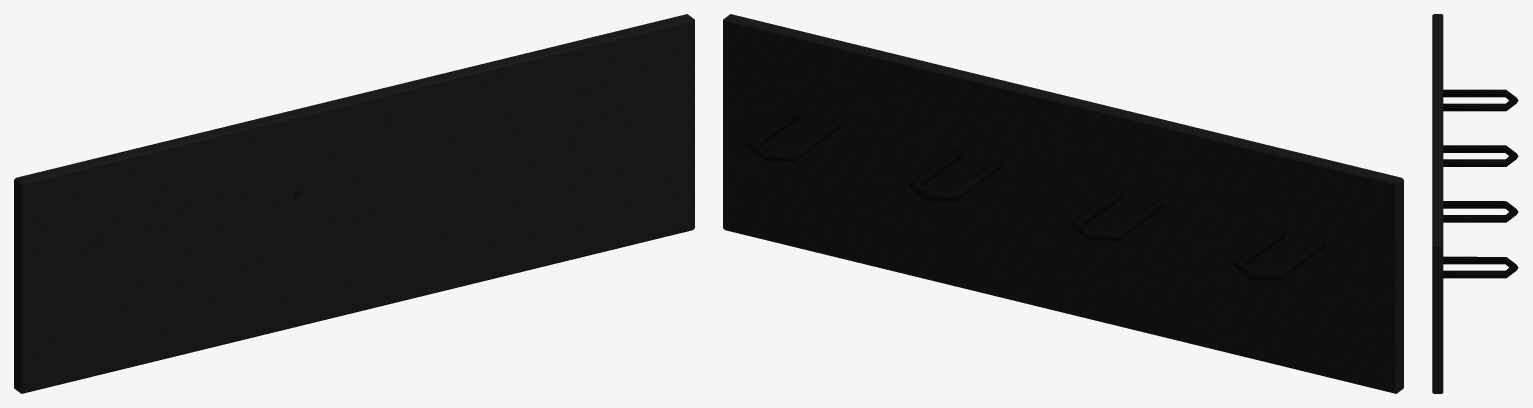
File: StorageWallRack.gltf
3 renders of one model, left to right at view 1: azimuth 30°, elevation 25°; view 2: azimuth 150°, elevation 25°; view 3: azimuth 270°, elevation 25°, orthographic. The views are drawn at different scales.
Parts seen in each view (by area): view 1: StorageWallRack__Body; view 2: StorageWallRack__Body; view 3: StorageWallRack__Body.
Part boxes in pixels (x1,y1,x2,y2): StorageWallRack__Body: [14, 14, 694, 393]; StorageWallRack__Body: [723, 14, 1403, 393]; StorageWallRack__Body: [1432, 14, 1518, 393].
Bounding box in the file's own units: 1.4 × 0.42 × 0.2198.
1 material, 1 textured.
